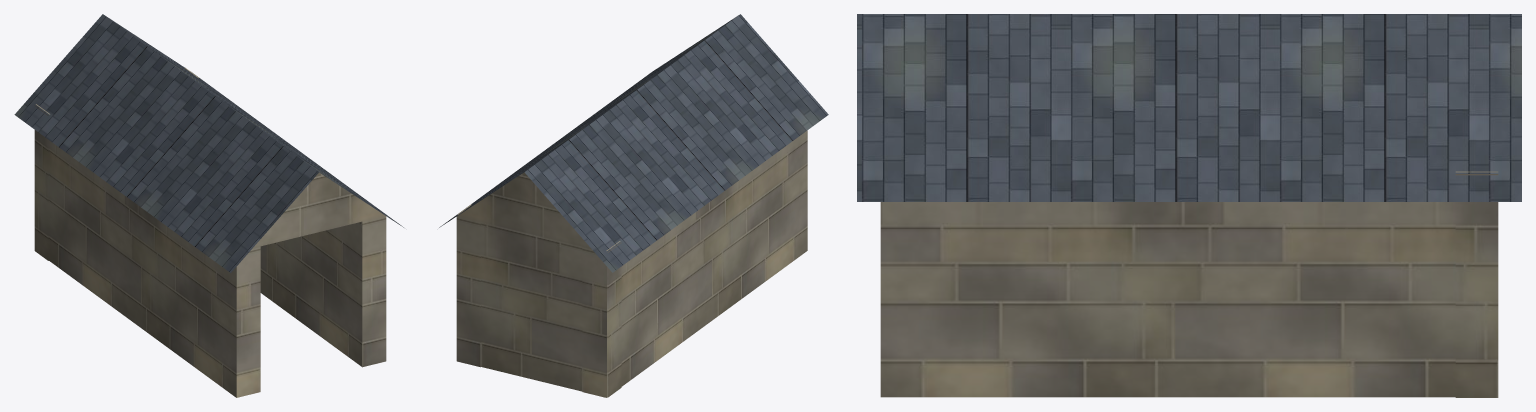
The model's file is fort-cellar-stair.zfix-v11.lod0.glb.
3 views of the same model, side by side, from view 1: azimuth 30°, elevation 25°; view 2: azimuth 150°, elevation 25°; view 3: azimuth 270°, elevation 25° (orthographic). The views are drawn at different scales.
Visible parts, largest first — view 1: fort-cellar-stair; view 2: fort-cellar-stair; view 3: fort-cellar-stair.
Boxes of the visible parts, x1,y1,x2,y2 form: fort-cellar-stair: (14,14,403,397); fort-cellar-stair: (439,14,828,397); fort-cellar-stair: (857,14,1521,397).
Size of the model in its own units: 3.3 by 3.8 by 7.
3 materials, 3 textured.
